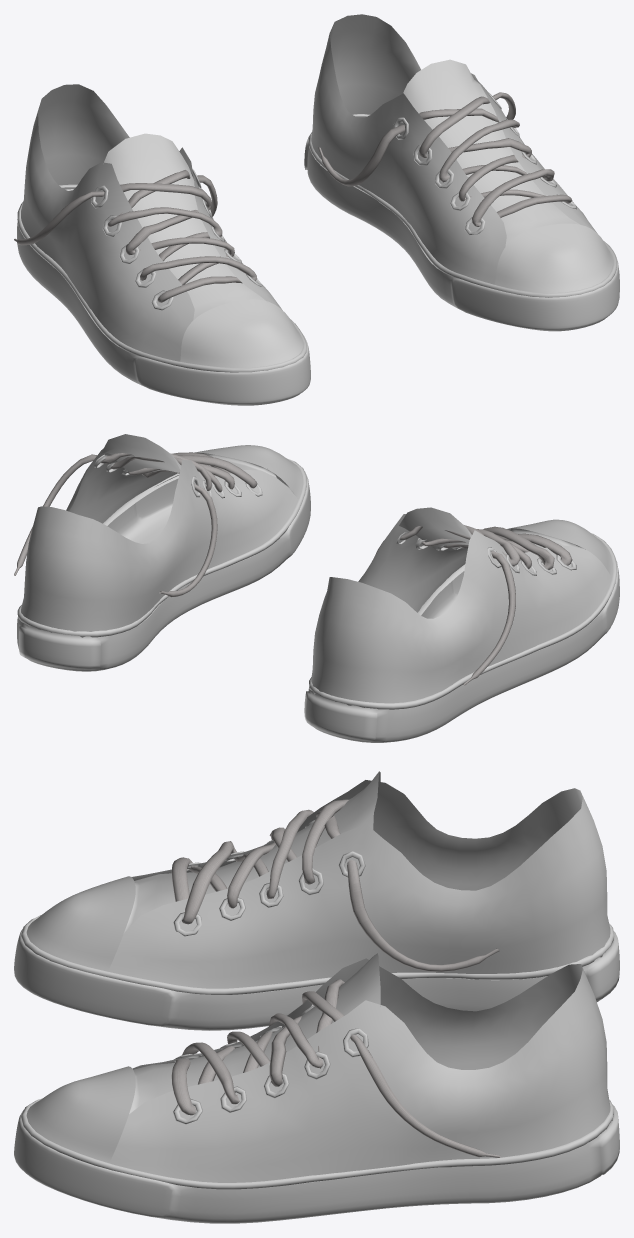
3 renders of one model, top to bottom at view 1: azimuth 30°, elevation 25°; view 2: azimuth 150°, elevation 25°; view 3: azimuth 270°, elevation 25°, orthographic. The views are drawn at different scales.
Visible parts, largest first — view 1: Chuck_Taylor_Shoes; view 2: Chuck_Taylor_Shoes; view 3: Chuck_Taylor_Shoes.
Part boxes in pixels (x1,y1,x2,y2): Chuck_Taylor_Shoes: (14, 14, 619, 405); Chuck_Taylor_Shoes: (14, 434, 619, 742); Chuck_Taylor_Shoes: (14, 771, 619, 1223).
Bounding box in the file's own units: 2 × 0.7185 × 1.79.
